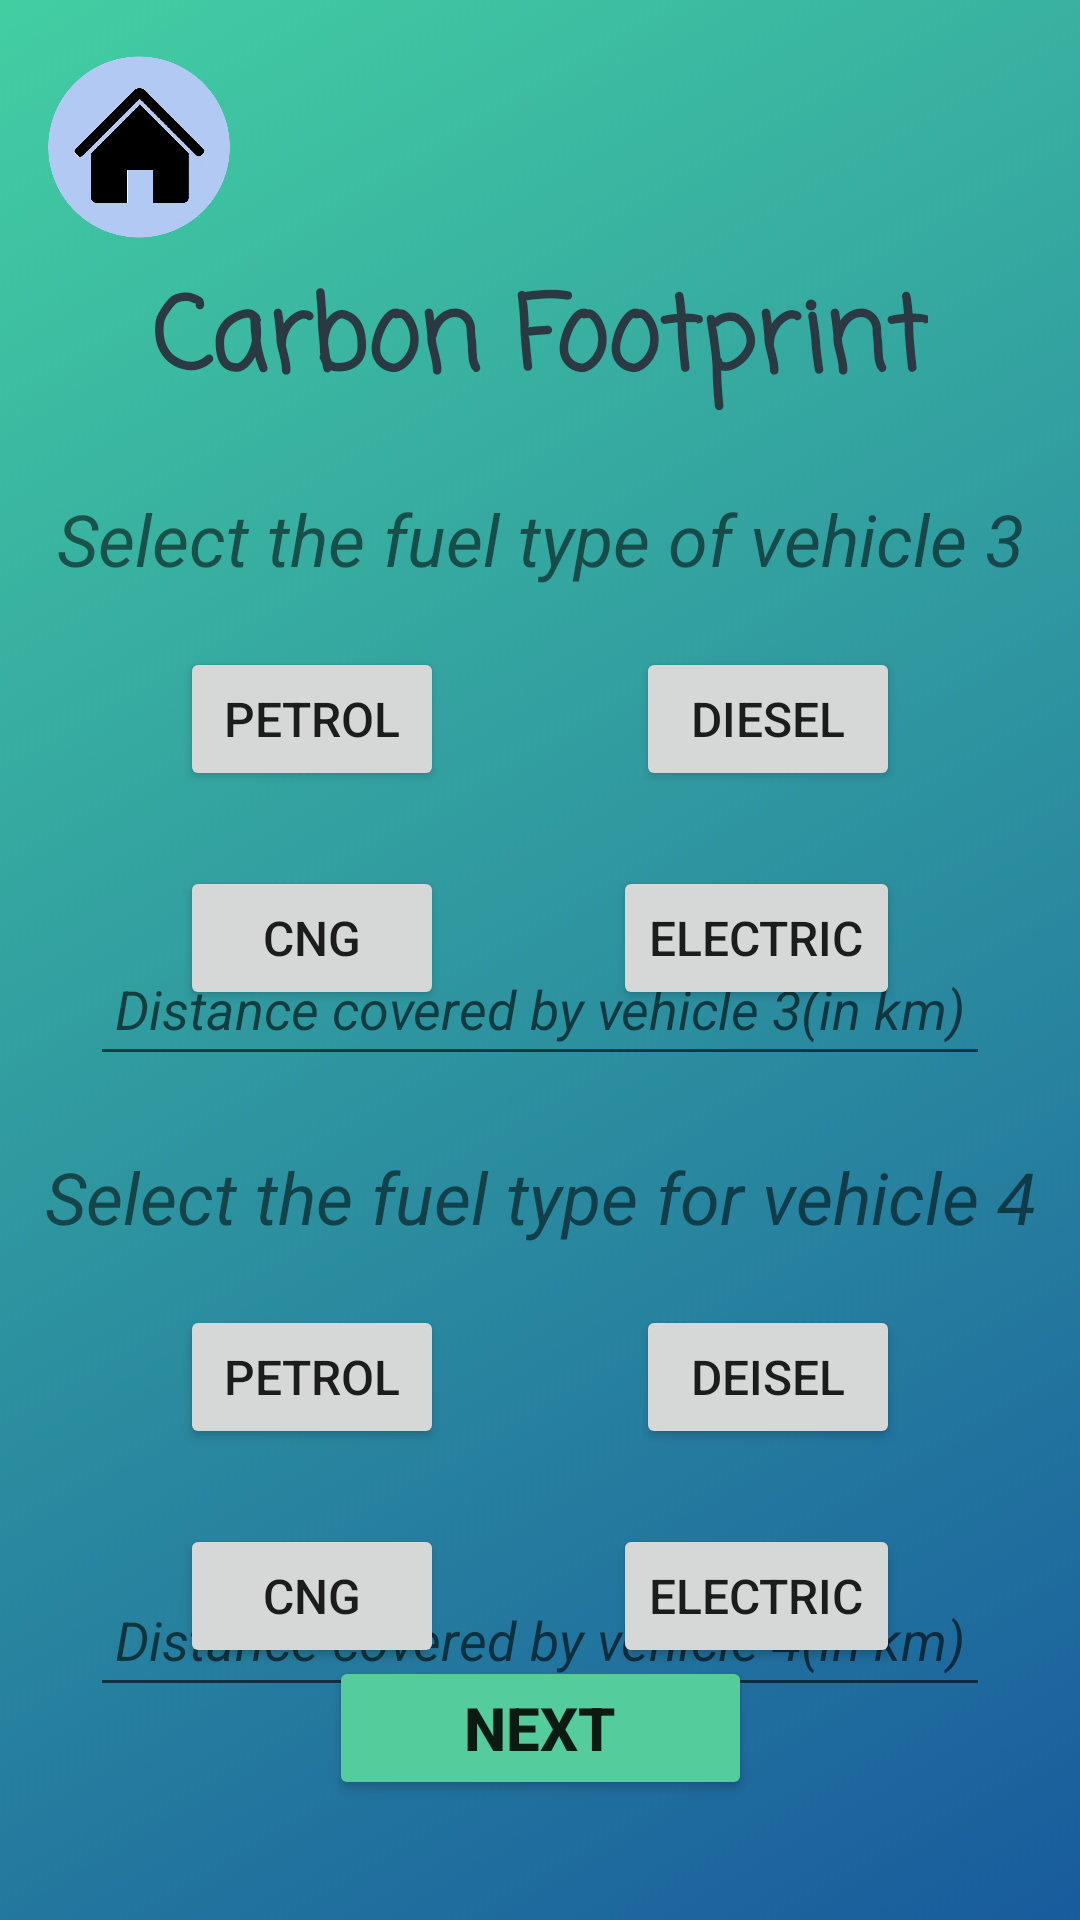

Icons on this 1080px x 1920px Android screen, each with the point to tap as [x,y]:
home: [139,147]
